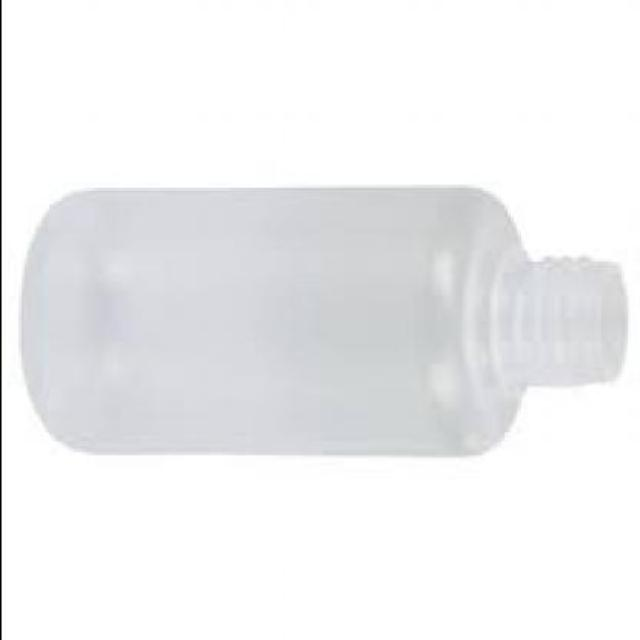PLASTIC: (22, 182, 628, 458)
